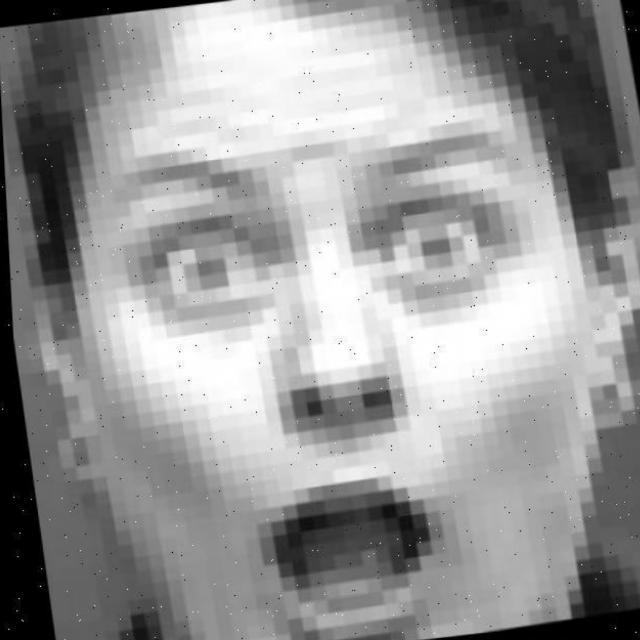Surprised: (74, 91, 594, 640)
